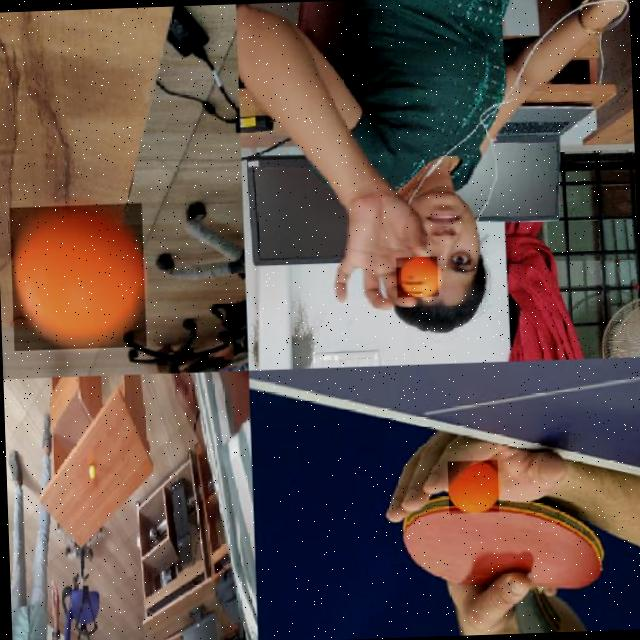ping-pong-ball: (8, 200, 147, 350), (446, 457, 500, 513), (395, 255, 438, 296), (86, 462, 94, 478)
